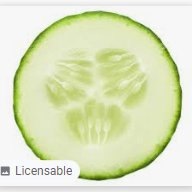Kumquat: (12, 11, 183, 186)
